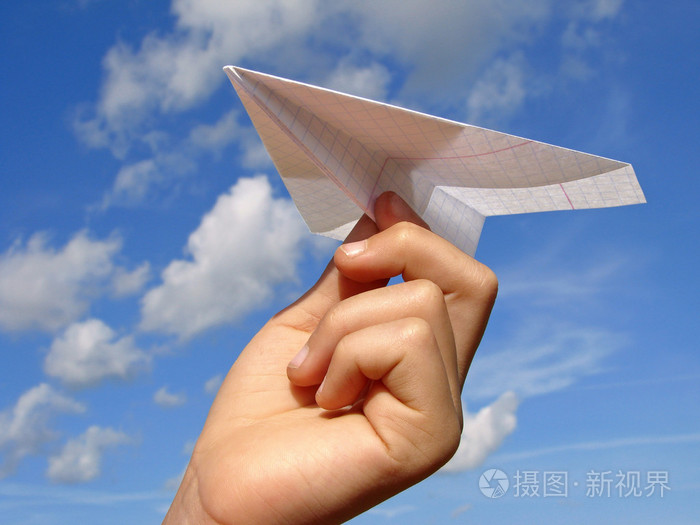no-phone: (179, 69, 651, 525)
